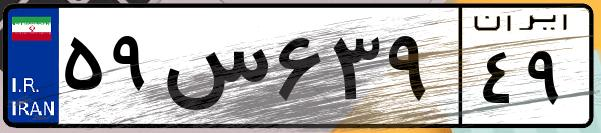3: (330, 28, 385, 110)
4: (475, 38, 525, 113)
5: (57, 26, 110, 100)
6: (270, 28, 330, 110)
9: (385, 28, 445, 110), (525, 38, 570, 115), (110, 28, 158, 98)
س: (158, 20, 270, 120)
